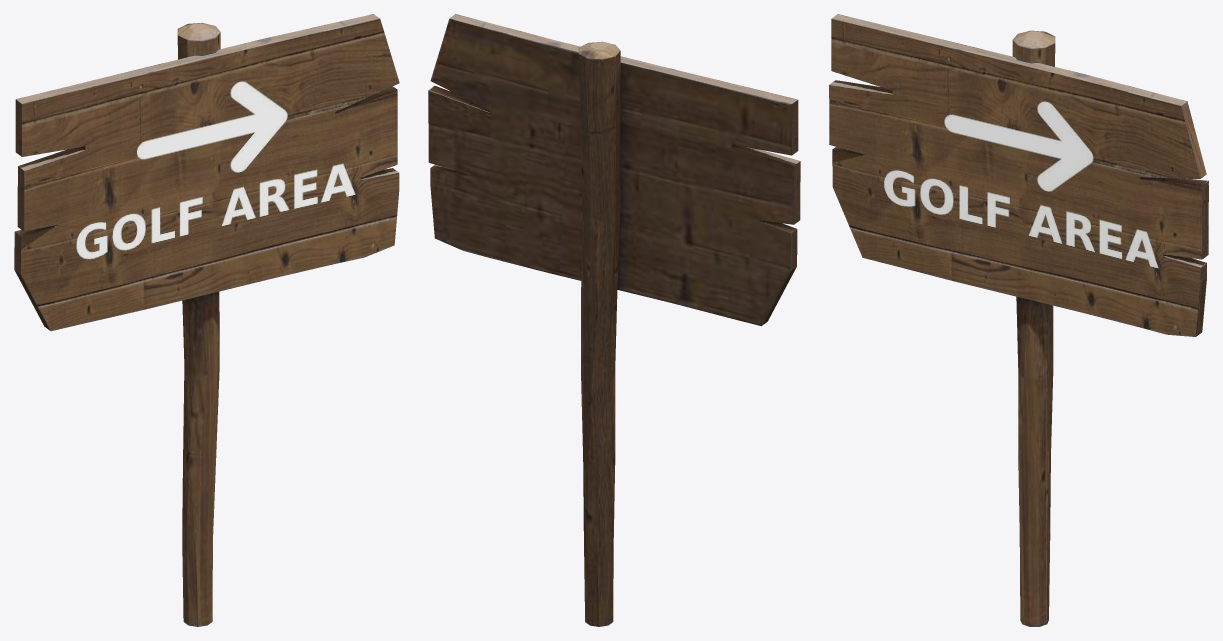
Rendered from golf_area_sign.glb.
3 views of the same model, side by side, from view 1: azimuth 30°, elevation 25°; view 2: azimuth 150°, elevation 25°; view 3: azimuth 330°, elevation 25° (orthographic). The views are drawn at different scales.
Parts seen in each view (by area): view 1: Signpost_Tall_Baked_dark; view 2: Signpost_Tall_Baked_dark; view 3: Signpost_Tall_Baked_dark.
Part boxes in pixels (x1,y1,x2,y2): Signpost_Tall_Baked_dark: [14, 14, 399, 626]; Signpost_Tall_Baked_dark: [428, 14, 800, 626]; Signpost_Tall_Baked_dark: [829, 14, 1208, 626].
Bounding box in the file's own units: 2 × 3.02 × 0.2602.
1 material, 1 textured.
